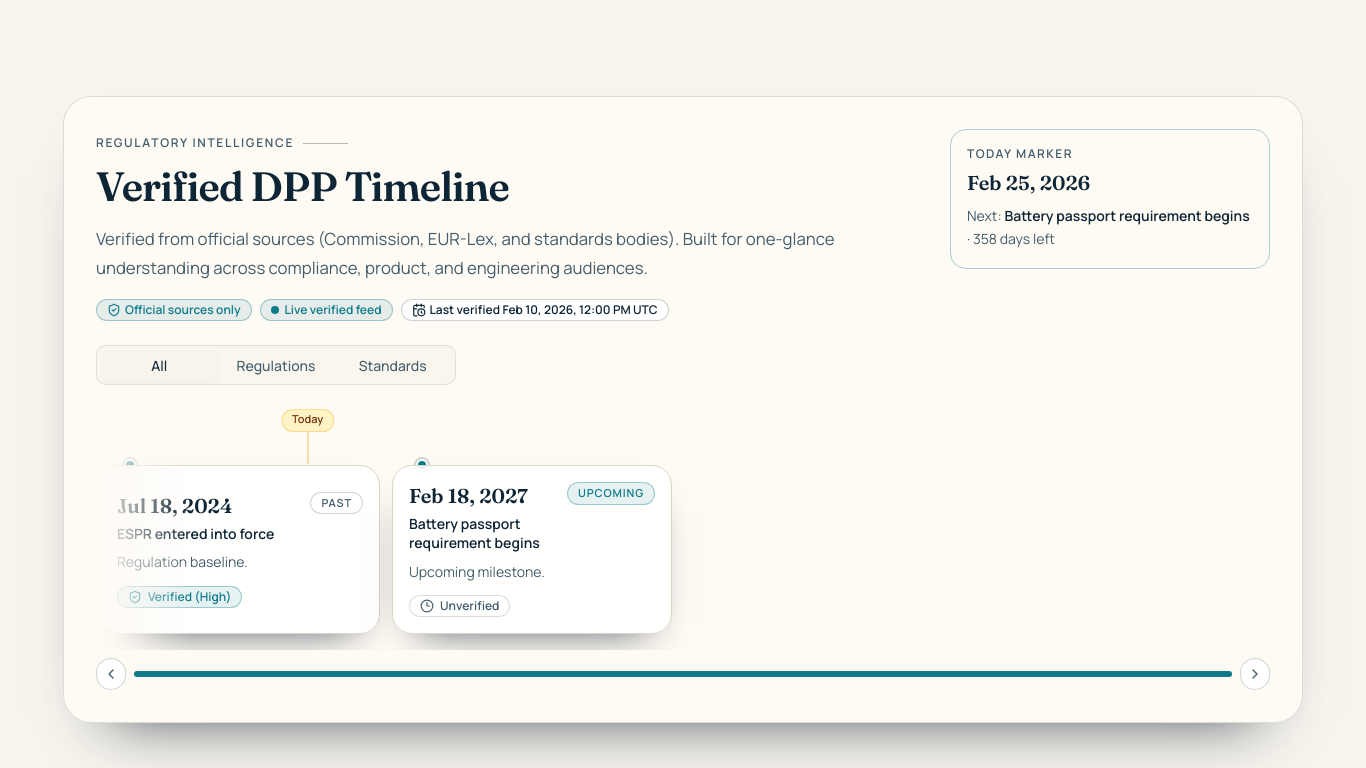
Test: RegulatoryTimelineSection › renders verified event and opens detail dialog
The width and height of the screenshot is (1366, 768).
Expected: the heading "Verified DPP Timeline" is shown, [96, 162, 509, 212]
Expected: the text "Live verified feed" is shown, [260, 299, 392, 321]
Click the button with test id "timeline-card-espr-entry-into-force".
click(240, 550)  # box [100, 465, 380, 634]
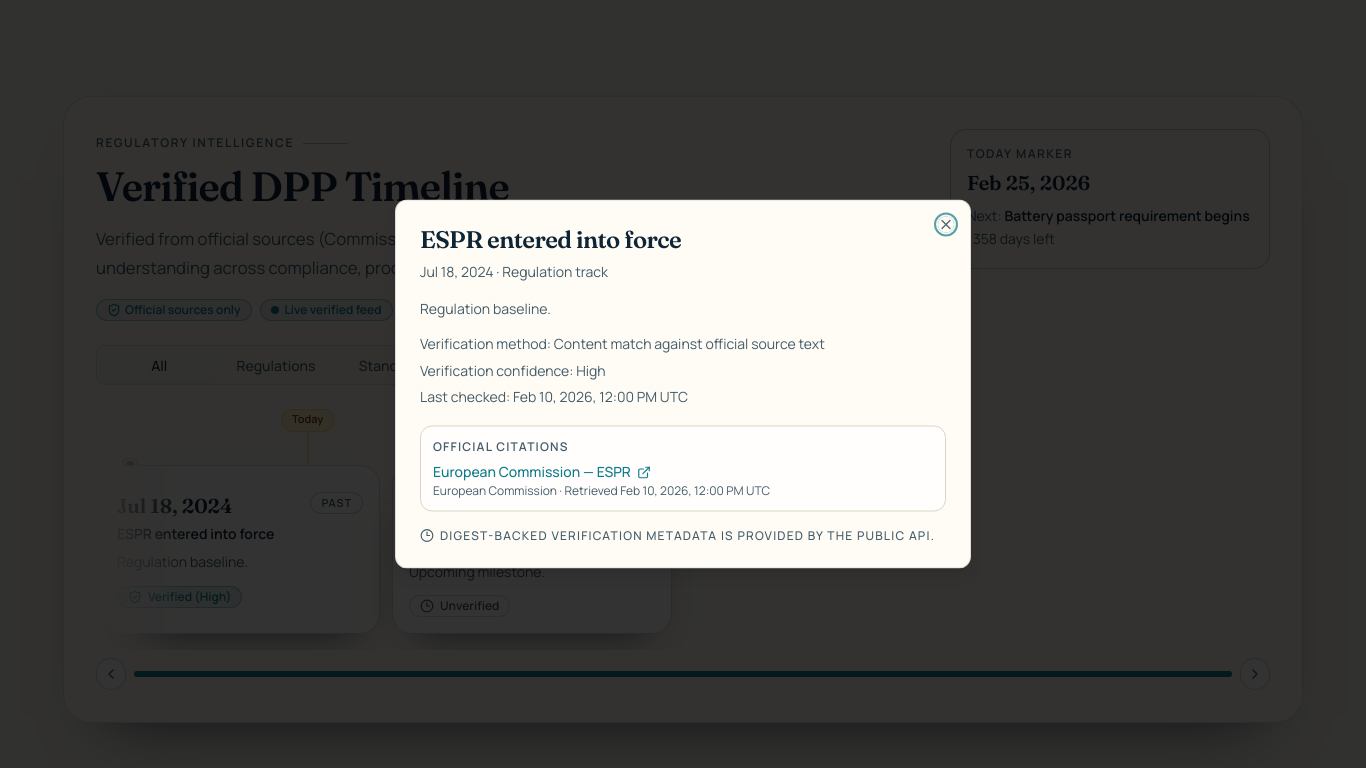
Expected: the text "Official citations" is shown, [433, 438, 569, 454]
Expected: the list item "Verification method: Content match against official source text" is shown, [420, 334, 825, 353]
Expected: the link "European Commission — ESPR" is shown, [433, 462, 651, 482]
